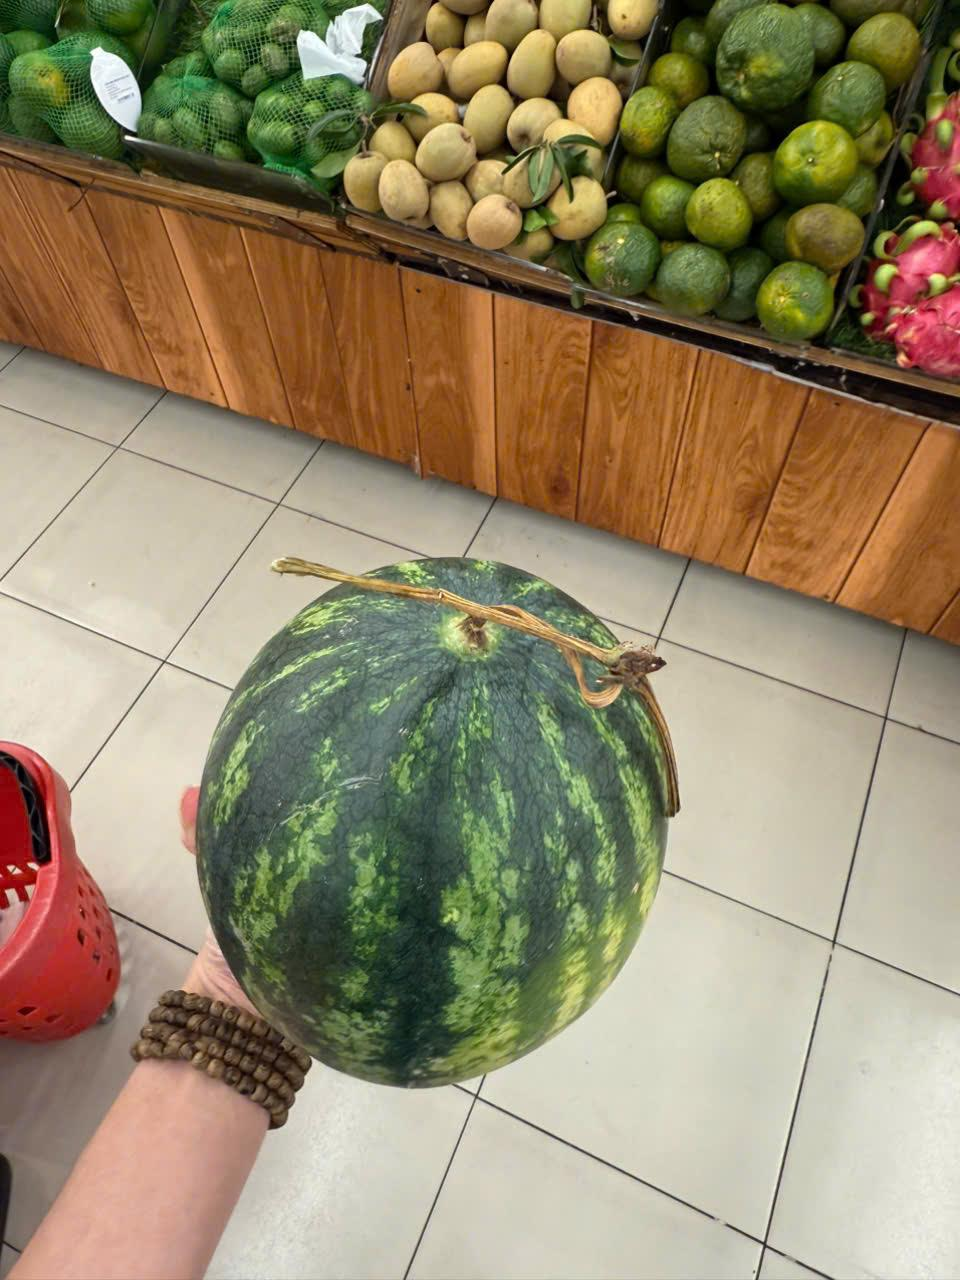watermelon: (183, 538, 674, 1085)
